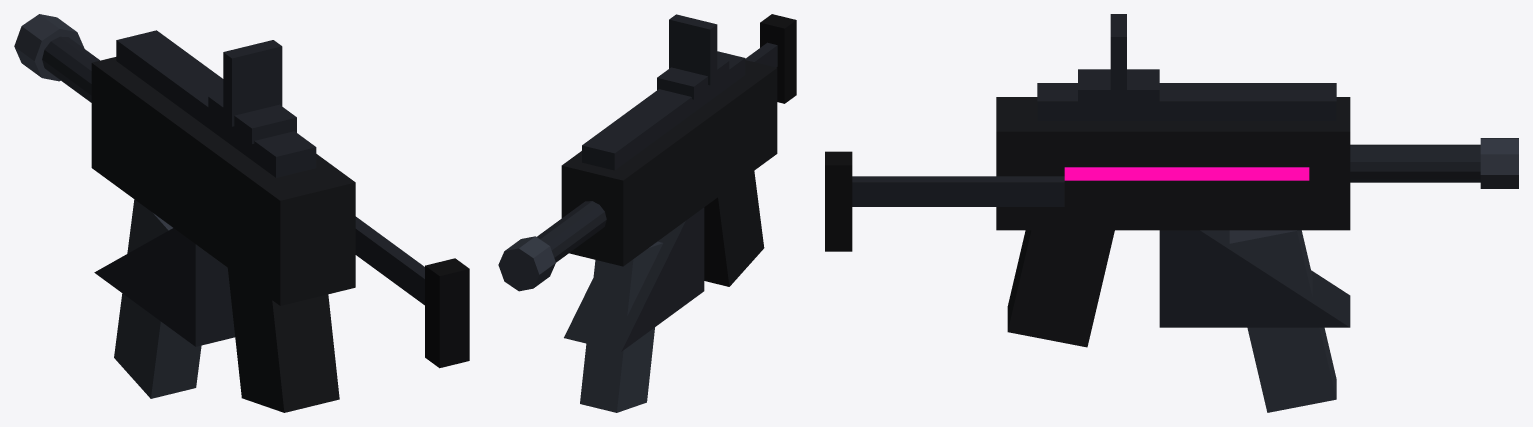
File: Weapon_SubmachineGun.fbx
The picture shows the model from 3 angles, left to right: view 1: azimuth 30°, elevation 25°; view 2: azimuth 150°, elevation 25°; view 3: azimuth 270°, elevation 25°; orthographic projection. The views are drawn at different scales.
Visible parts, largest first — view 1: Weapon_SubmachineGun__CarbonFiber, Weapon_SubmachineGun__DarkMetal, Weapon_SubmachineGun__SteelPanel, Weapon_SubmachineGun__Rubber; view 2: Weapon_SubmachineGun__CarbonFiber, Weapon_SubmachineGun__DarkMetal, Weapon_SubmachineGun__SteelPanel, Weapon_SubmachineGun__Rubber; view 3: Weapon_SubmachineGun__CarbonFiber, Weapon_SubmachineGun__DarkMetal, Weapon_SubmachineGun__SteelPanel, Weapon_SubmachineGun__NeonCrimson, Weapon_SubmachineGun__Rubber.
Part boxes in pixels (bbox=[...]): Weapon_SubmachineGun__CarbonFiber: bbox=[91, 57, 355, 412]; Weapon_SubmachineGun__DarkMetal: bbox=[42, 30, 424, 346]; Weapon_SubmachineGun__SteelPanel: bbox=[14, 14, 201, 398]; Weapon_SubmachineGun__Rubber: bbox=[425, 258, 469, 368]; Weapon_SubmachineGun__CarbonFiber: bbox=[561, 60, 777, 286]; Weapon_SubmachineGun__DarkMetal: bbox=[537, 14, 777, 351]; Weapon_SubmachineGun__SteelPanel: bbox=[498, 236, 663, 412]; Weapon_SubmachineGun__Rubber: bbox=[760, 14, 796, 103]; Weapon_SubmachineGun__CarbonFiber: bbox=[996, 97, 1350, 347]; Weapon_SubmachineGun__DarkMetal: bbox=[852, 14, 1480, 327]; Weapon_SubmachineGun__SteelPanel: bbox=[1229, 138, 1518, 412]; Weapon_SubmachineGun__NeonCrimson: bbox=[1064, 167, 1309, 180]; Weapon_SubmachineGun__Rubber: bbox=[825, 151, 852, 251].
Size of the model in its own units: 0.39 by 1.53 by 2.55.
